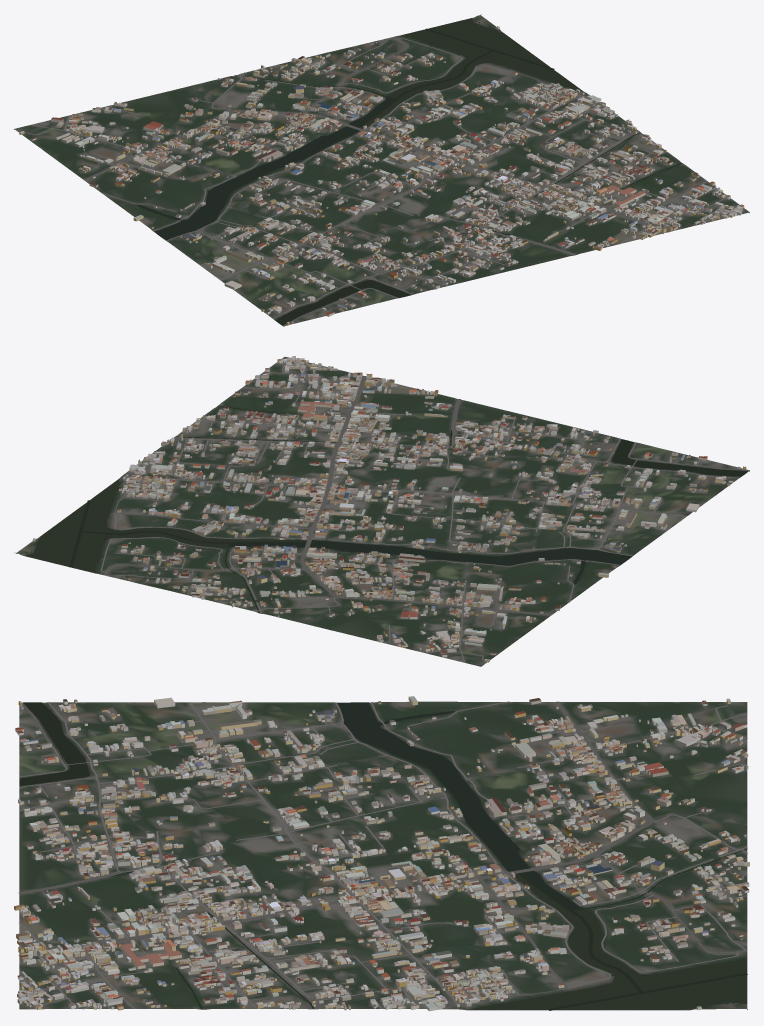
3 views of the same model, one above another, from view 1: azimuth 30°, elevation 25°; view 2: azimuth 150°, elevation 25°; view 3: azimuth 270°, elevation 25° (orthographic). The views are drawn at different scales.
Visible parts, largest first — view 1: ground, buildings, water, roads; view 2: ground, buildings, water, roads; view 3: ground, buildings, water, roads.
Boxes of the visible parts, x1,y1,x2,y2 form: ground: (14, 15, 749, 326); buildings: (19, 26, 744, 325); water: (136, 18, 682, 325); roads: (27, 14, 746, 326); ground: (16, 356, 749, 666); buildings: (32, 356, 746, 662); water: (25, 405, 747, 613); roads: (14, 359, 749, 662); ground: (19, 701, 747, 1010); buildings: (14, 696, 749, 1011); water: (19, 702, 747, 1010); roads: (18, 701, 747, 1009).
Size of the model in its own units: 1420 by 18.4 by 1416.
